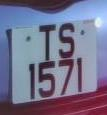1: (26, 61, 39, 103), (74, 56, 87, 97)
5: (36, 59, 59, 102)
7: (56, 57, 77, 100)
S: (56, 20, 80, 58)
T: (36, 21, 60, 64)
